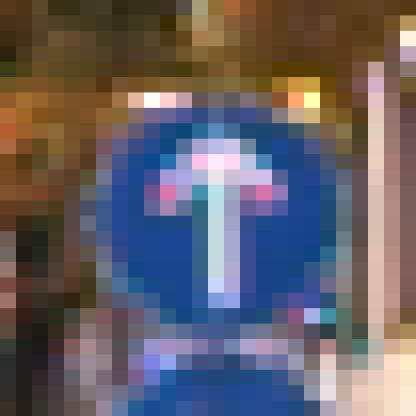AheadOnly: (81, 78, 337, 340)
